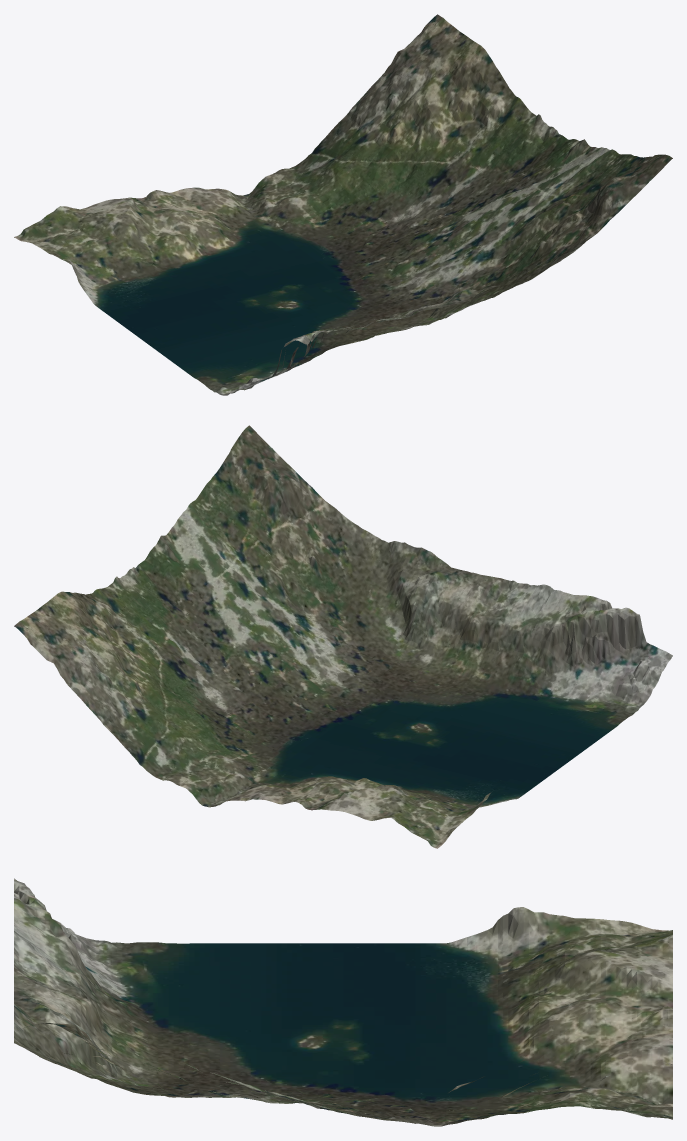
3 views of the same model, one above another, from view 1: azimuth 30°, elevation 25°; view 2: azimuth 150°, elevation 25°; view 3: azimuth 270°, elevation 25° (orthographic). The views are drawn at different scales.
Size of the model in its own units: 500 by 184 by 481.
1 material, 1 textured.
